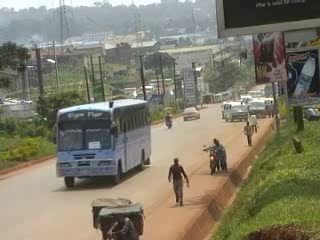Car: (180, 104, 202, 121)
Motorcycle: (202, 144, 226, 172), (162, 111, 174, 129)
